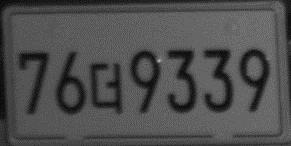3: (163, 48, 198, 113), (202, 48, 234, 112)
6: (53, 50, 88, 115)
7: (15, 50, 50, 116)
9: (128, 50, 160, 115), (238, 48, 270, 112)
더: (87, 60, 123, 115)
